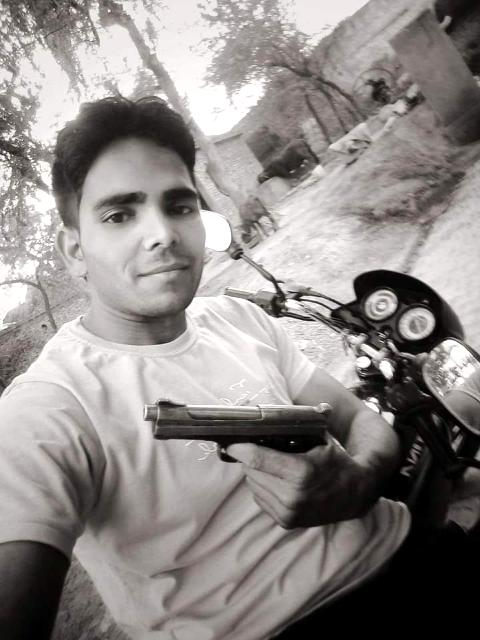pistol: (137, 390, 339, 474)
